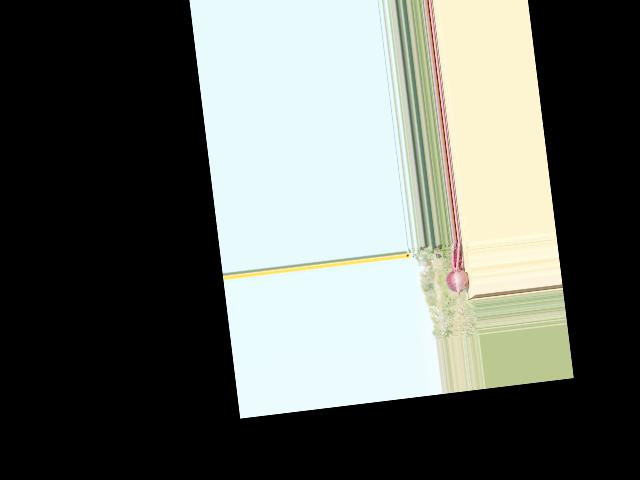beet: (442, 240, 475, 335)
